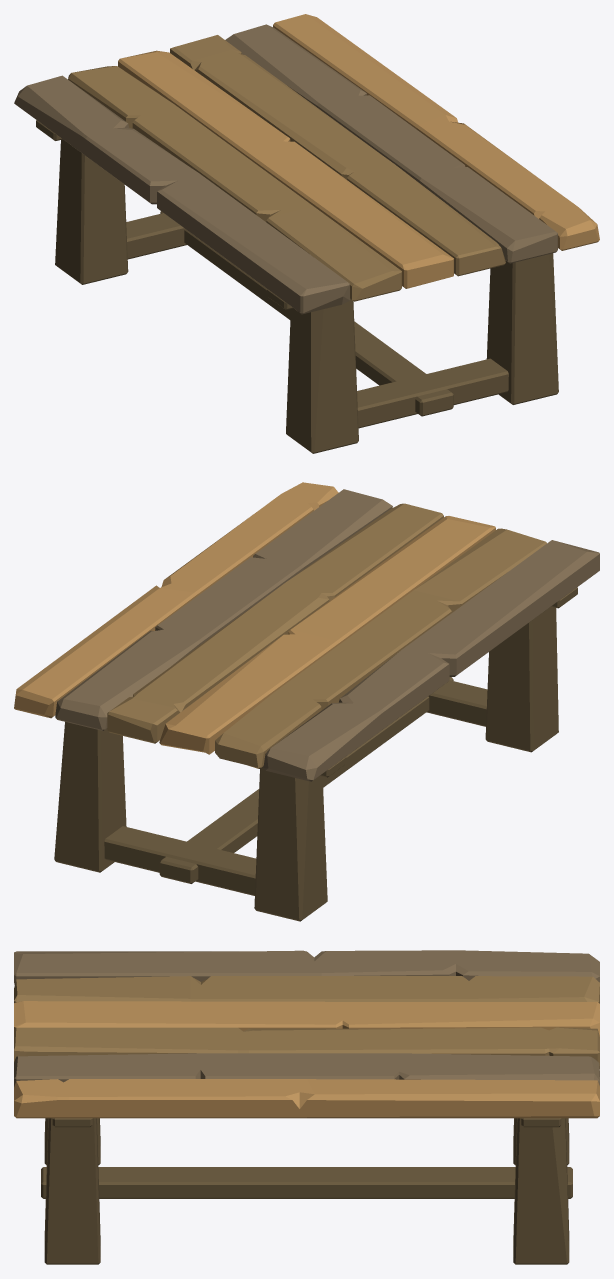
The model's file is Broken_Table.fbx.
The picture shows the model from 3 angles, top to bottom: view 1: azimuth 30°, elevation 25°; view 2: azimuth 150°, elevation 25°; view 3: azimuth 270°, elevation 25°; orthographic projection.
Visible parts, largest first — view 1: Mesa_Rota; view 2: Mesa_Rota; view 3: Mesa_Rota.
Boxes of the visible parts, bbox=[...] form: Mesa_Rota: bbox=[14, 14, 599, 453]; Mesa_Rota: bbox=[14, 482, 599, 921]; Mesa_Rota: bbox=[14, 950, 599, 1264].
Bounding box in the file's own units: 300 × 171 × 500.
